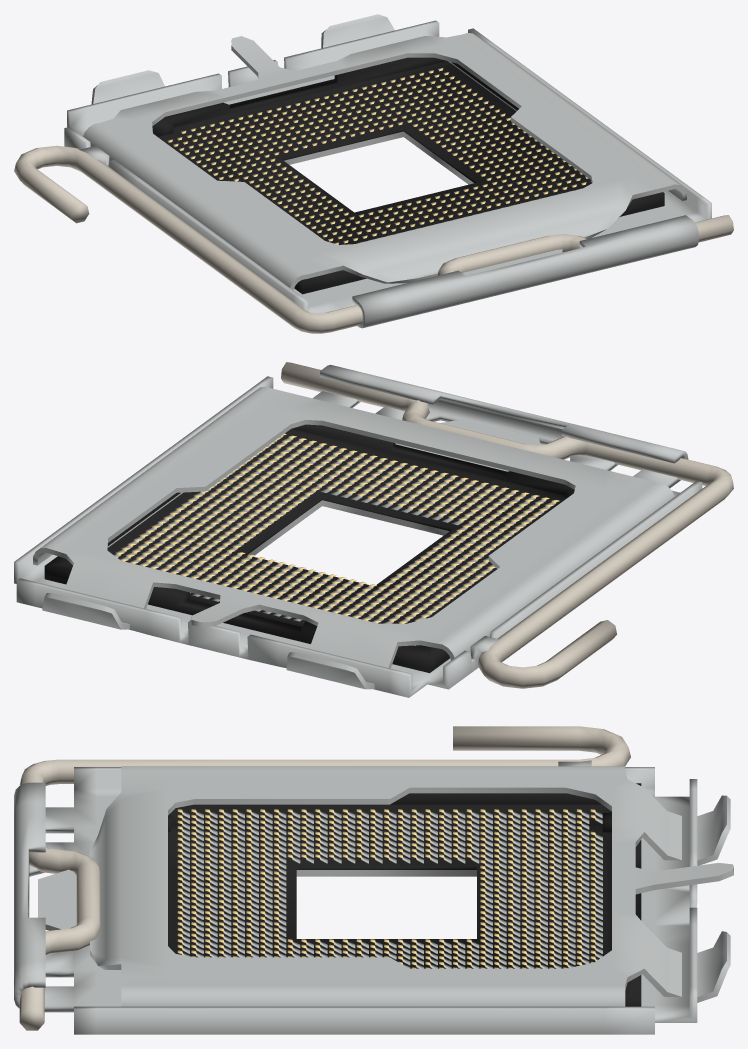
The model's file is lga775_socket.glb.
The picture shows the model from 3 angles, top to bottom: view 1: azimuth 30°, elevation 25°; view 2: azimuth 150°, elevation 25°; view 3: azimuth 270°, elevation 25°; orthographic projection. The views are drawn at different scales.
Visible parts, largest first — view 1: MainSlot_low, Cap_low, Holder_low; view 2: MainSlot_low, Cap_low, Holder_low; view 3: MainSlot_low, Cap_low, Holder_low.
Boxes of the visible parts, x1,y1,x2,y2 form: MainSlot_low: [64, 20, 711, 328]; Cap_low: [83, 14, 686, 290]; Holder_low: [14, 145, 733, 333]; MainSlot_low: [14, 364, 702, 697]; Cap_low: [33, 386, 674, 689]; Holder_low: [281, 362, 733, 688]; MainSlot_low: [14, 760, 697, 1034]; Cap_low: [38, 766, 733, 1006]; Holder_low: [19, 726, 630, 1030].
Size of the model in its own units: 21.89 by 1.72 by 23.14.
1 material, 1 textured.
